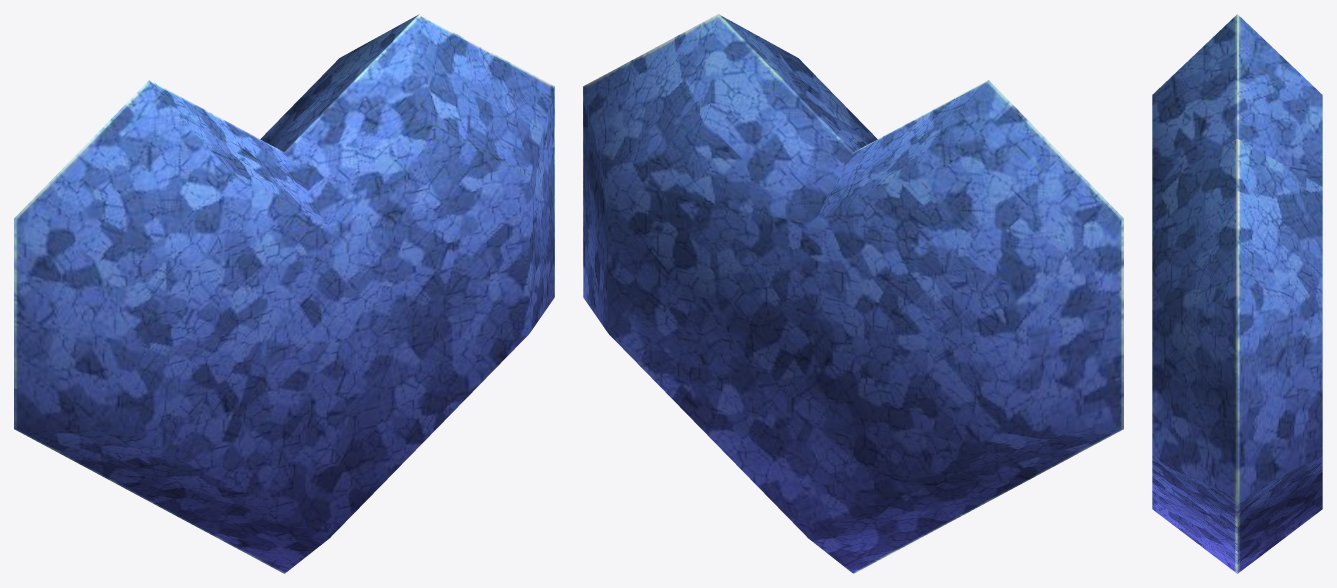
The model's file is health_100.glb.
The picture shows the model from 3 angles, left to right: view 1: azimuth 30°, elevation 25°; view 2: azimuth 150°, elevation 25°; view 3: azimuth 270°, elevation 25°; orthographic projection. The views are drawn at different scales.
Parts seen in each view (by area): view 1: health_100; view 2: health_100; view 3: health_100.
Boxes of the visible parts, x1,y1,x2,y2 form: health_100: (14,14,554,573); health_100: (583,14,1123,573); health_100: (1152,14,1322,573).
Size of the model in its own units: 0.6925 by 0.6449 by 0.1999.
Materials: 1 (1 with a texture image).
